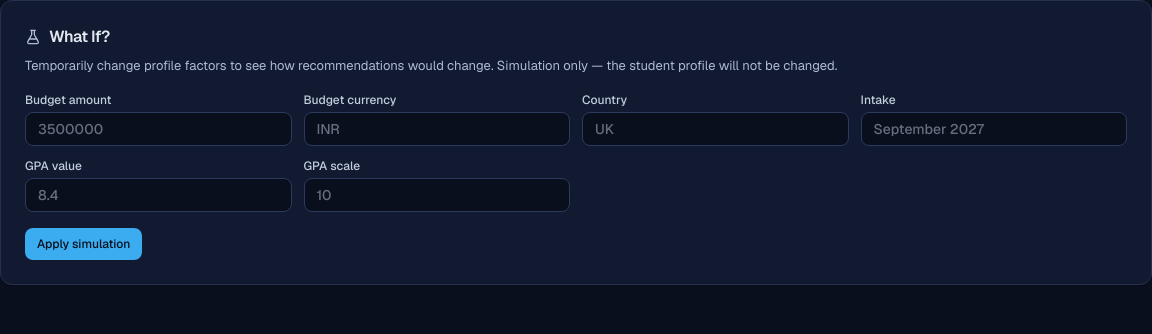
Test case: WhatIfPanel › rejects a currency without an amount
Type "USD" into the field named "Scenario budget currency" at [437, 129], box top-left (304, 112), bottom-right (570, 146)
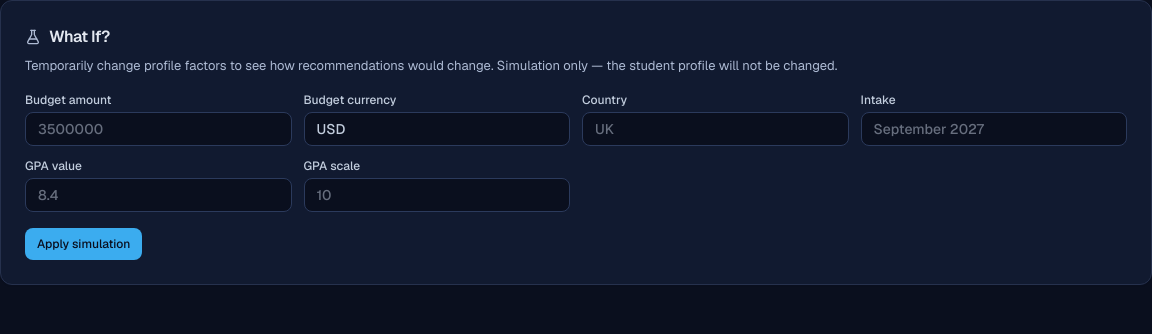
Click the button "Apply simulation" at [84, 244], box top-left (25, 228), bottom-right (142, 260)
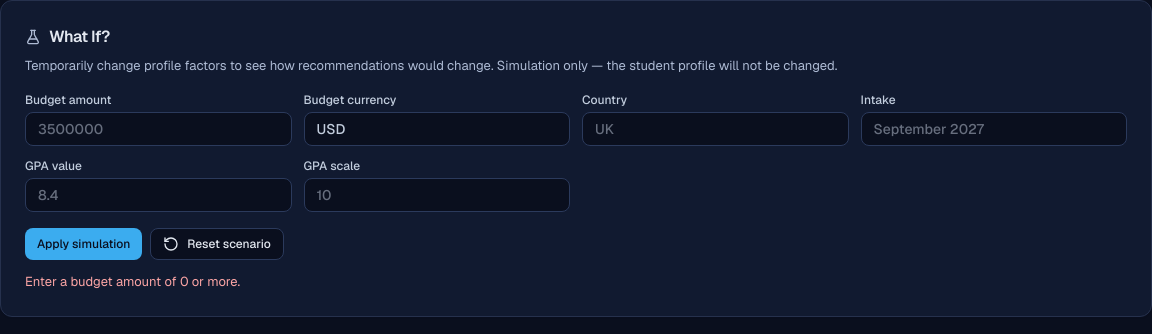
Expected: the text "Enter a budget amount of 0 or more." is shown, top-left (25, 273), bottom-right (240, 290)
